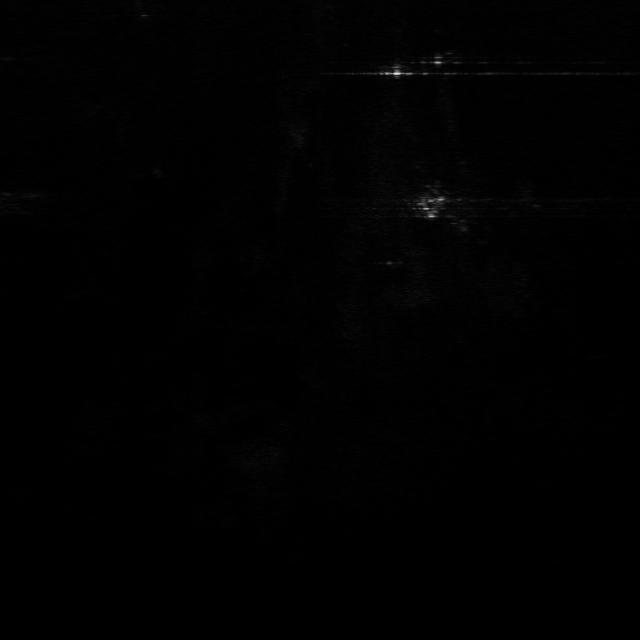rov: (413, 195, 452, 221)
